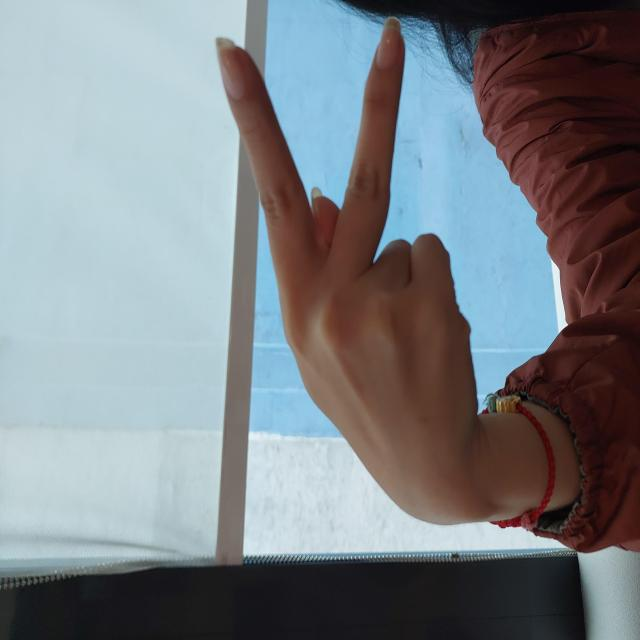K: (115, 211, 629, 480)
